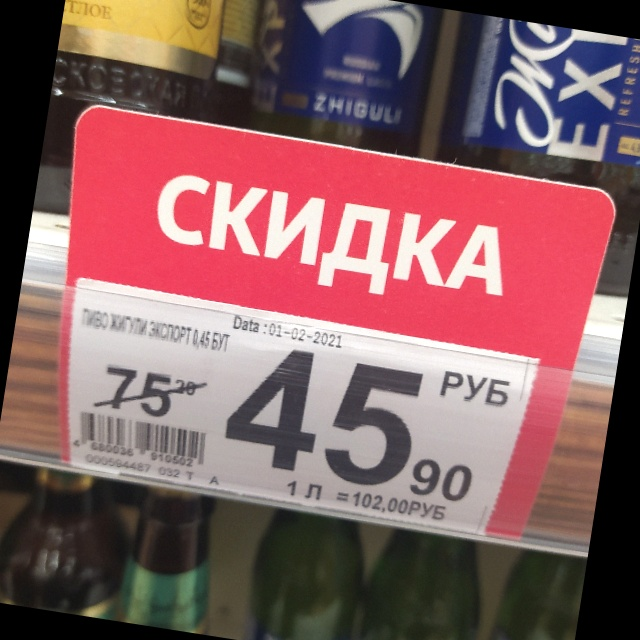barcode: (73, 410, 207, 469)
name: (81, 304, 239, 354)
price: (222, 346, 475, 503)
price_tag: (65, 285, 540, 537)
